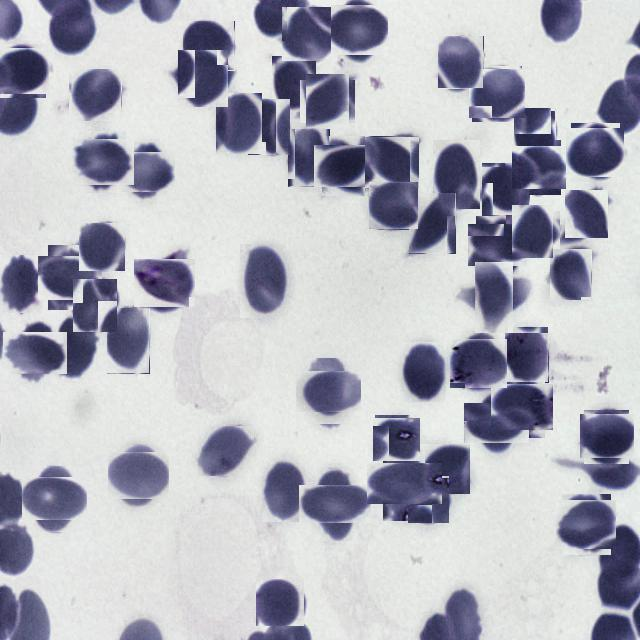red blood cell: (240, 244, 288, 318), (375, 454, 433, 512), (433, 140, 480, 209), (306, 477, 362, 532), (282, 6, 337, 62), (559, 497, 614, 552), (467, 270, 521, 326), (111, 448, 165, 503), (452, 336, 506, 391), (176, 51, 230, 106), (262, 458, 308, 522), (302, 364, 356, 418), (43, 250, 97, 304), (8, 326, 62, 380), (76, 135, 130, 189), (568, 126, 622, 180), (494, 380, 548, 434), (28, 472, 82, 526), (333, 2, 387, 56), (409, 193, 456, 254), (365, 136, 418, 190), (107, 307, 150, 373), (54, 313, 96, 380), (470, 397, 523, 450), (216, 93, 262, 154), (198, 426, 254, 476), (471, 68, 524, 120), (48, 0, 97, 56), (70, 70, 122, 122), (318, 140, 370, 192), (401, 342, 446, 402), (472, 220, 523, 271), (183, 21, 235, 71), (418, 444, 470, 494), (0, 255, 44, 314), (482, 163, 530, 216), (582, 412, 632, 462), (514, 108, 556, 167), (505, 327, 549, 383), (272, 56, 316, 112), (248, 99, 291, 156), (438, 36, 484, 89), (288, 129, 330, 187), (73, 279, 118, 333), (121, 147, 170, 196), (515, 143, 564, 192), (303, 77, 352, 126), (0, 46, 48, 96), (369, 181, 417, 230), (256, 578, 304, 626), (508, 208, 556, 255), (79, 223, 125, 271), (550, 249, 592, 301), (374, 416, 419, 462), (565, 190, 608, 238), (408, 476, 450, 524)
ring: (137, 256, 192, 311)
